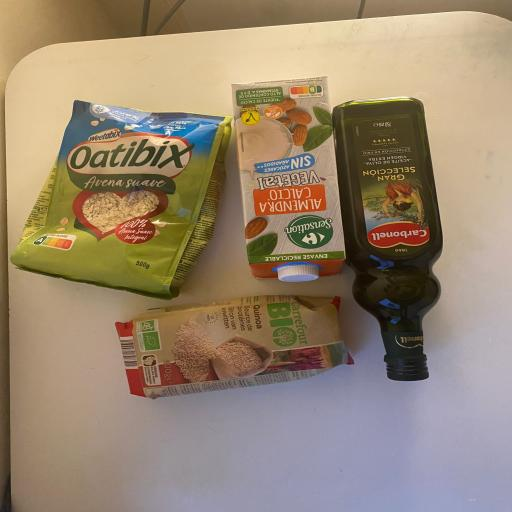almond_milk: (228, 74, 348, 284)
oats: (16, 98, 224, 298)
olive_oil: (330, 94, 446, 382)
quinoa: (111, 293, 353, 399)
